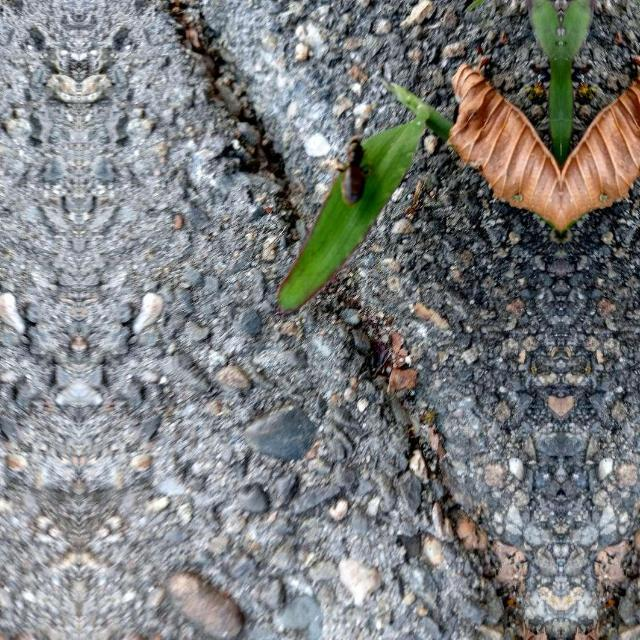Lasius: (326, 130, 372, 206)
